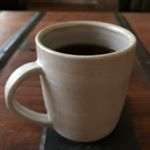cups: (2, 19, 141, 145)
